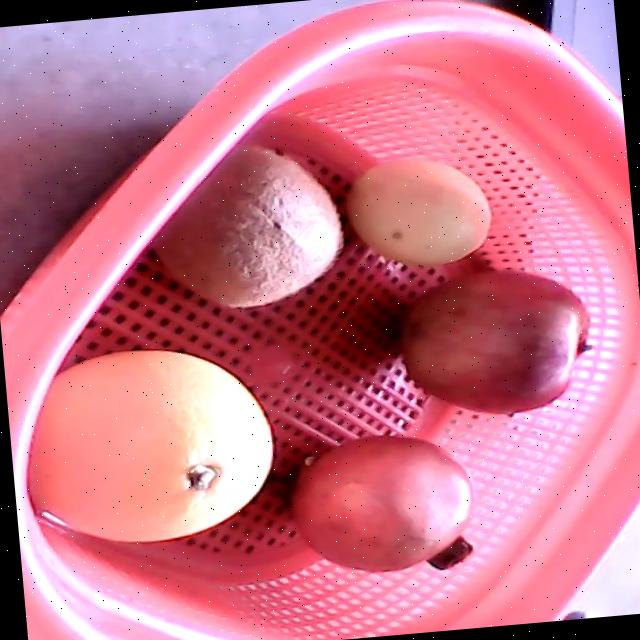apple: (398, 269, 591, 415)
kiwi: (147, 146, 338, 307)
lemon: (344, 157, 489, 266)
orange: (26, 348, 273, 542)
pomegranate: (289, 434, 473, 572)
